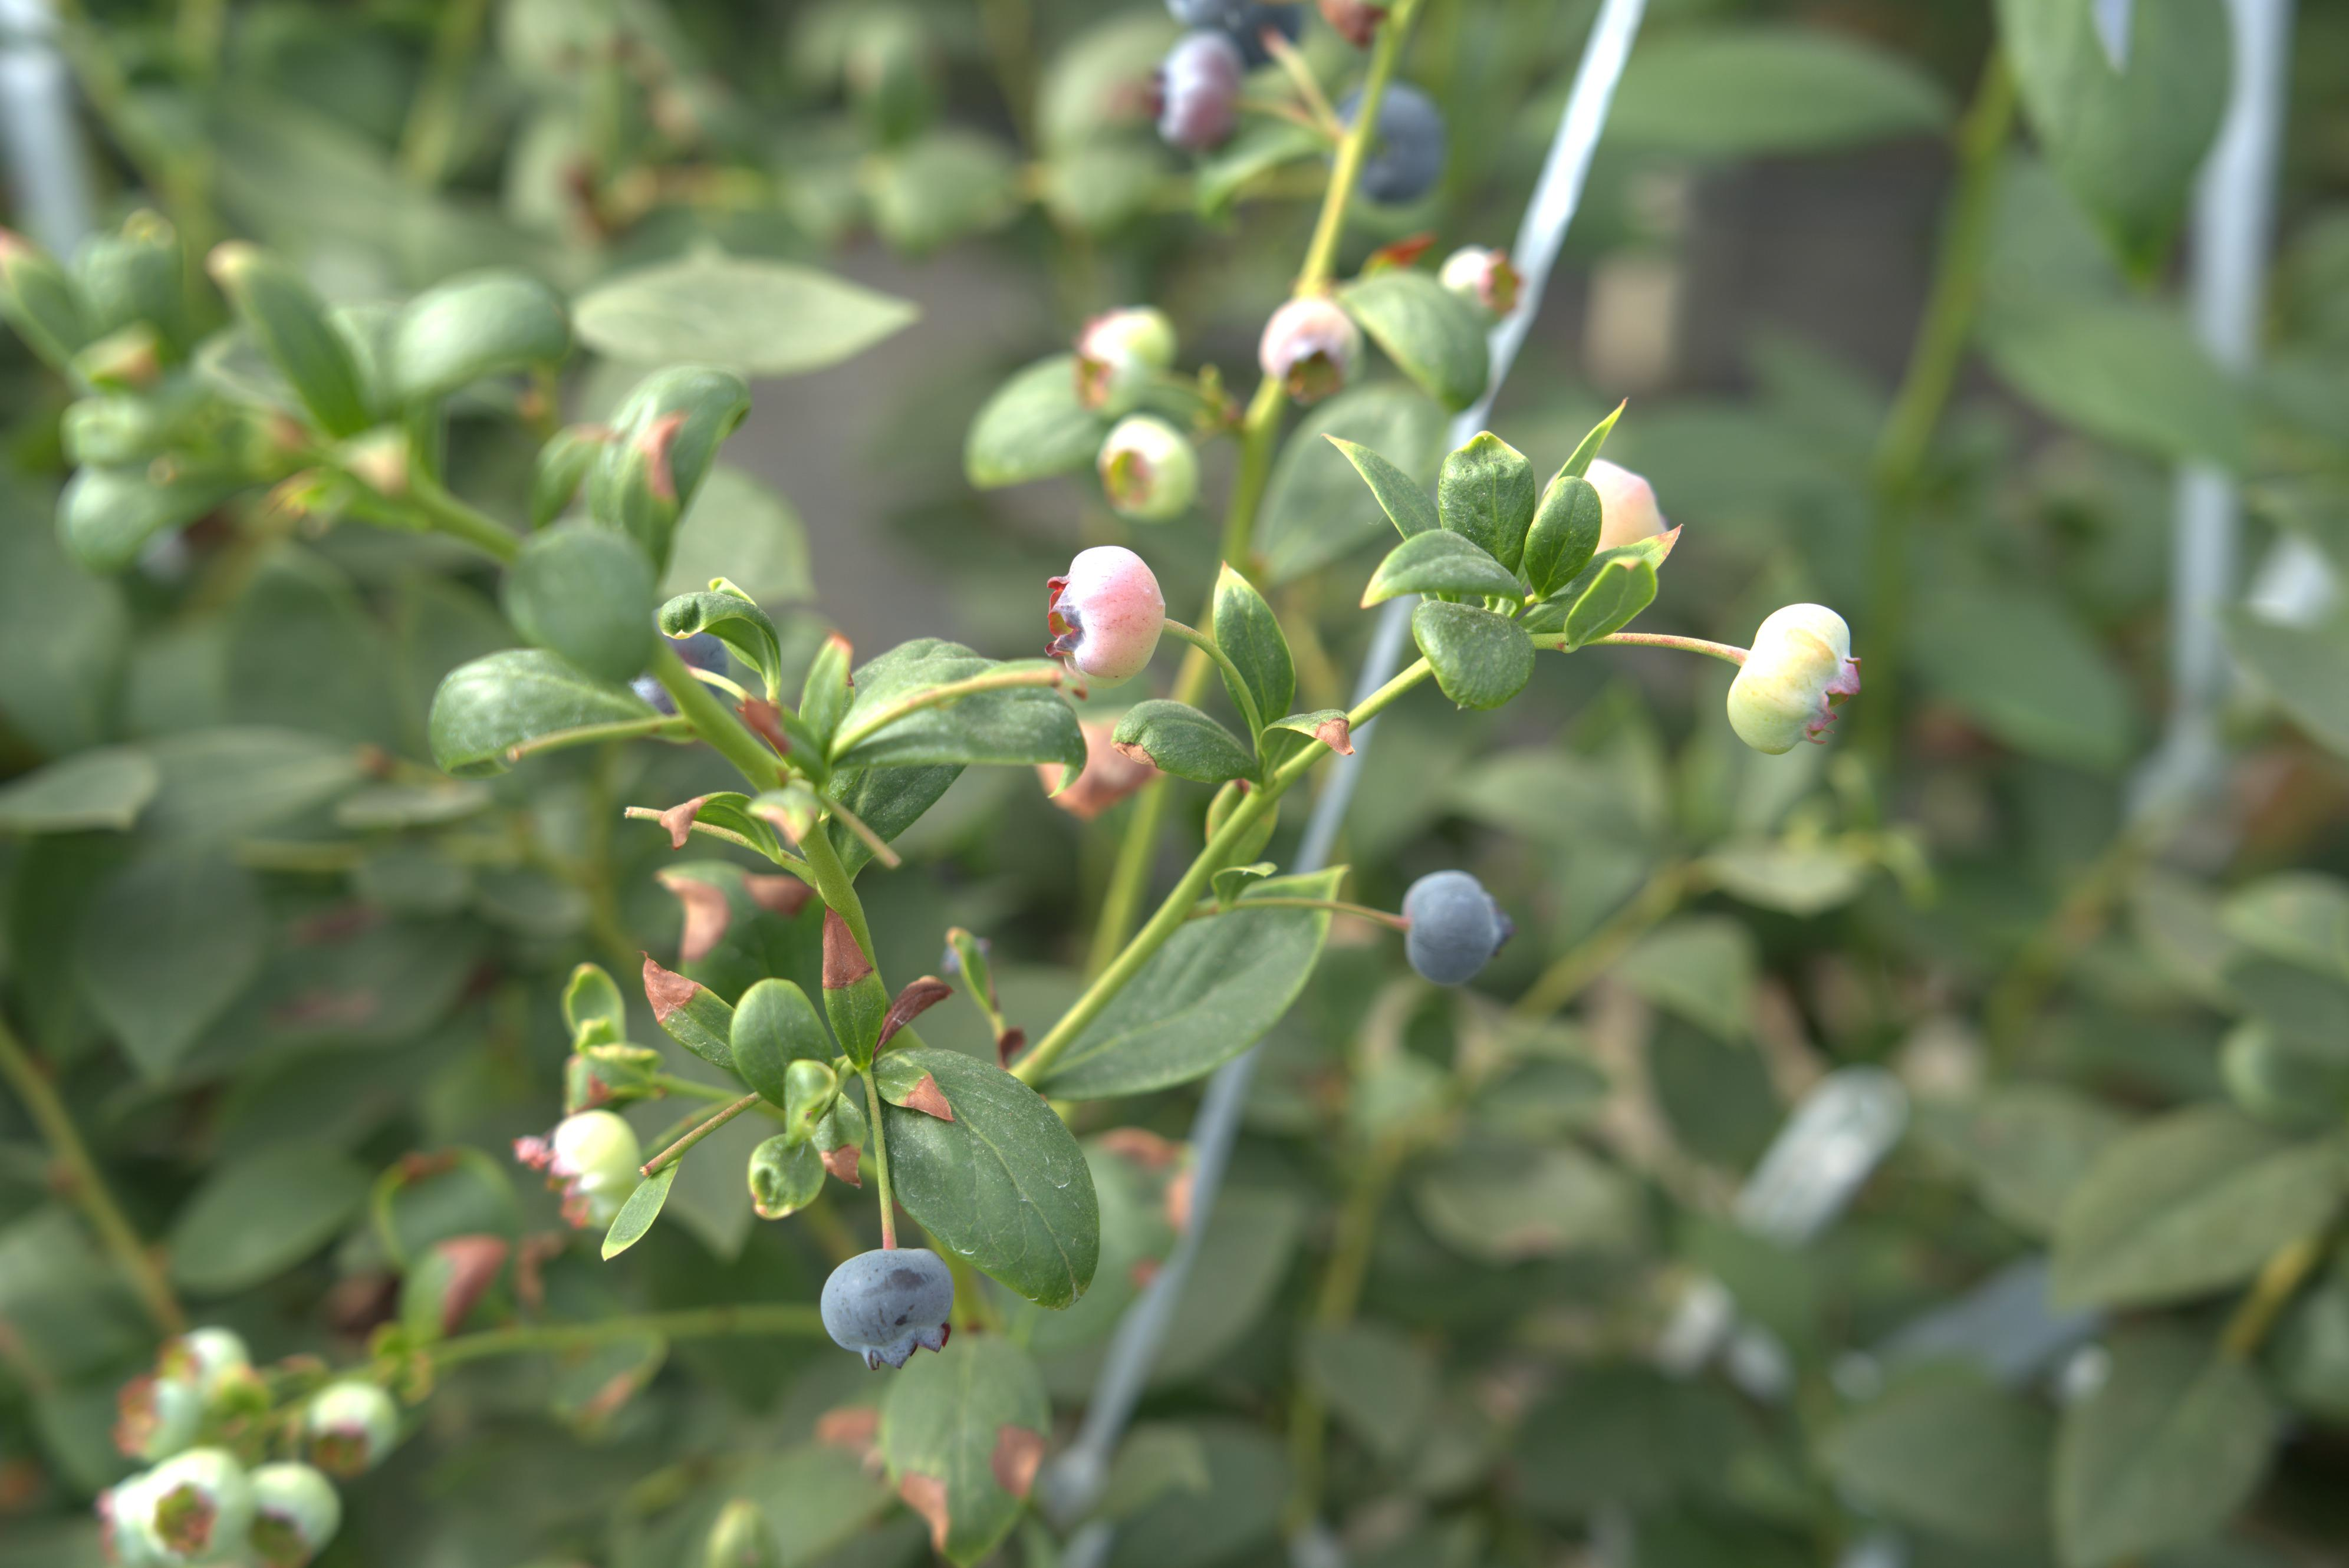ripe-blueberries: (809, 1248, 959, 1370), (1400, 870, 1512, 989), (1348, 73, 1449, 205)
semi-ripe-blueberries: (1050, 544, 1167, 684), (1726, 630, 1838, 759), (539, 1115, 646, 1234), (1754, 598, 1866, 707), (1260, 296, 1364, 402), (1097, 416, 1197, 523), (149, 1454, 238, 1557), (249, 1465, 341, 1559), (1437, 245, 1525, 332), (117, 1367, 194, 1452), (168, 1328, 245, 1393)
